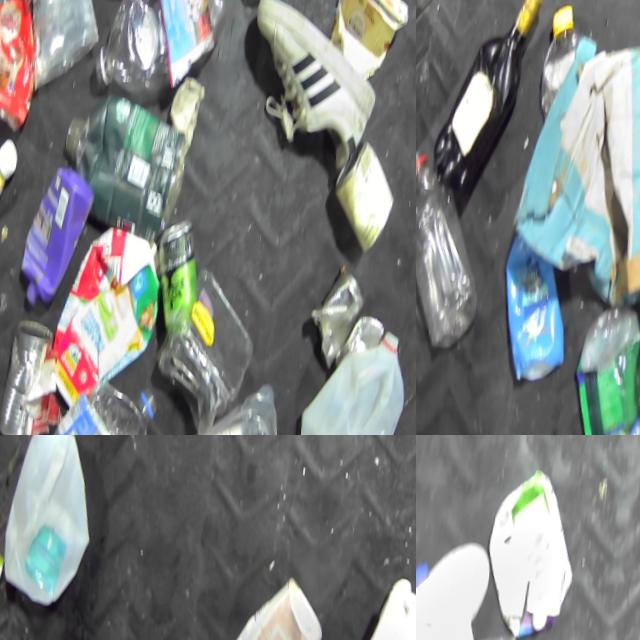can: (329, 142, 399, 251), (0, 314, 56, 435), (149, 214, 204, 328)
milk_jug: (0, 435, 104, 615), (298, 319, 409, 435), (416, 544, 492, 640), (341, 570, 416, 640)
non_white_jug: (57, 98, 192, 228), (21, 164, 92, 298), (0, 0, 41, 122)
plastic_bottle: (416, 140, 497, 349), (87, 0, 202, 84), (45, 369, 162, 435), (462, 612, 521, 640)
